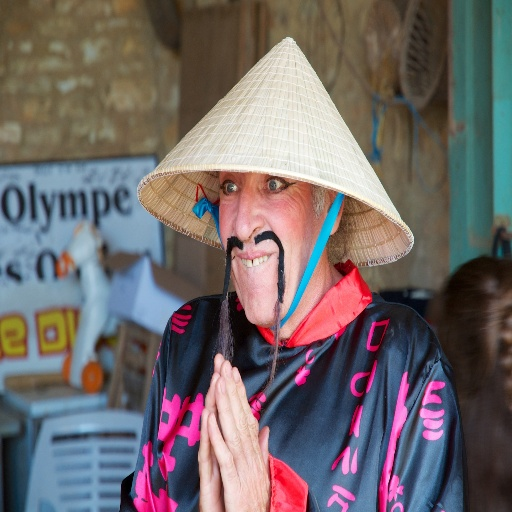hand: (206, 356, 270, 511), (197, 350, 226, 511)
